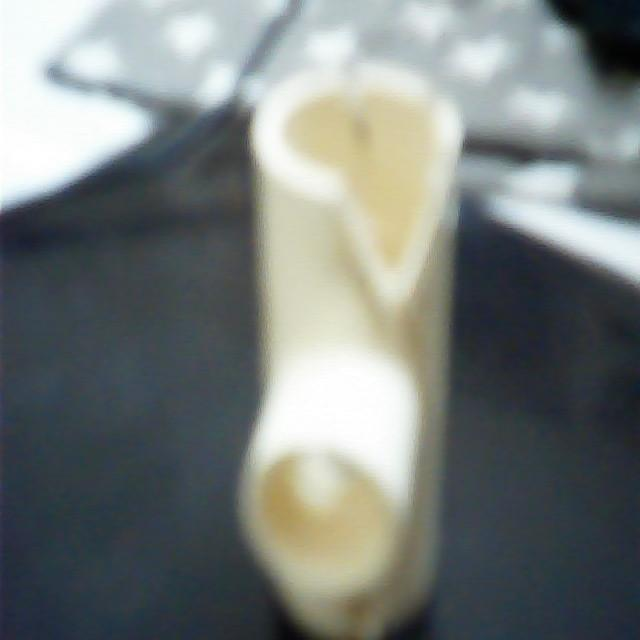Defective: (299, 129, 444, 317), (281, 397, 374, 545)
T Joint: (235, 69, 465, 640)
